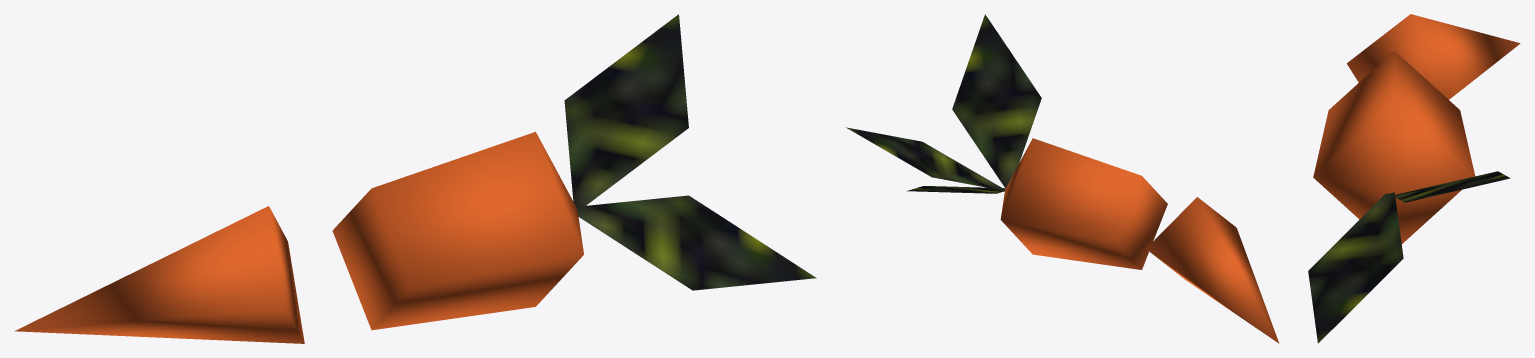
The model's file is CutCarrot.fbx.
3 views of the same model, side by side, from view 1: azimuth 30°, elevation 25°; view 2: azimuth 150°, elevation 25°; view 3: azimuth 270°, elevation 25° (orthographic). The views are drawn at different scales.
Parts seen in each view (by area): view 1: Plane.007; view 2: Plane.007; view 3: Plane.007.
Part boxes in pixels (x1=…): Plane.007: x1=14, y1=14, x2=816, y2=343; Plane.007: x1=846, y1=14, x2=1279, y2=343; Plane.007: x1=1308, y1=14, x2=1520, y2=343.
Bounding box in the file's own units: 68.4 × 28.45 × 21.98.
1 material, 1 textured.
